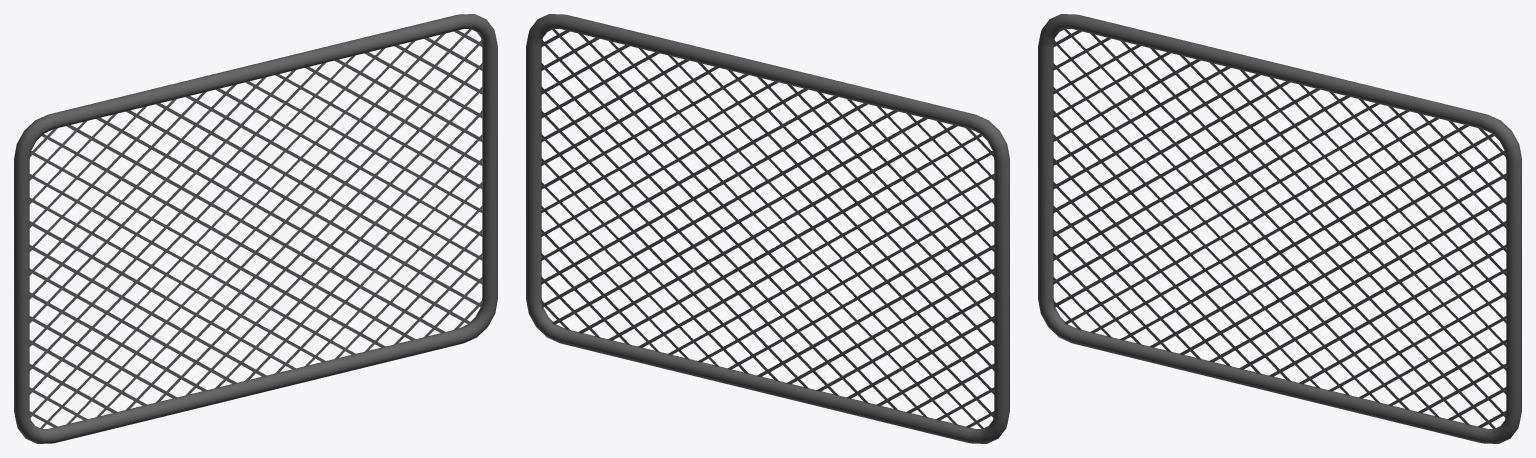
Rendered from fencevariant2.glb.
3 views of the same model, side by side, from view 1: azimuth 30°, elevation 25°; view 2: azimuth 150°, elevation 25°; view 3: azimuth 330°, elevation 25° (orthographic).
Parts seen in each view (by area): view 1: fencevariant2; view 2: fencevariant2; view 3: fencevariant2.
Part boxes in pixels (x1,y1,x2,y2): fencevariant2: (14, 14, 497, 443); fencevariant2: (526, 14, 1009, 443); fencevariant2: (1038, 14, 1521, 443).
Bounding box in the file's own units: 5.32 × 3.47 × 0.154.
1 material, 1 textured.
